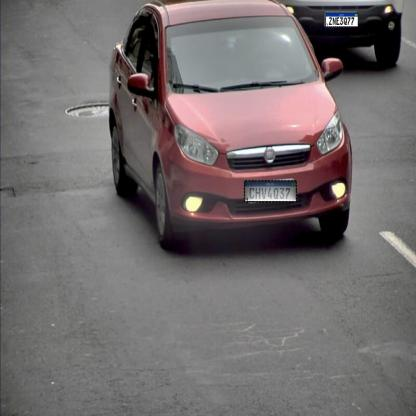PlacaM: (244, 180, 297, 202), (326, 13, 358, 27)
